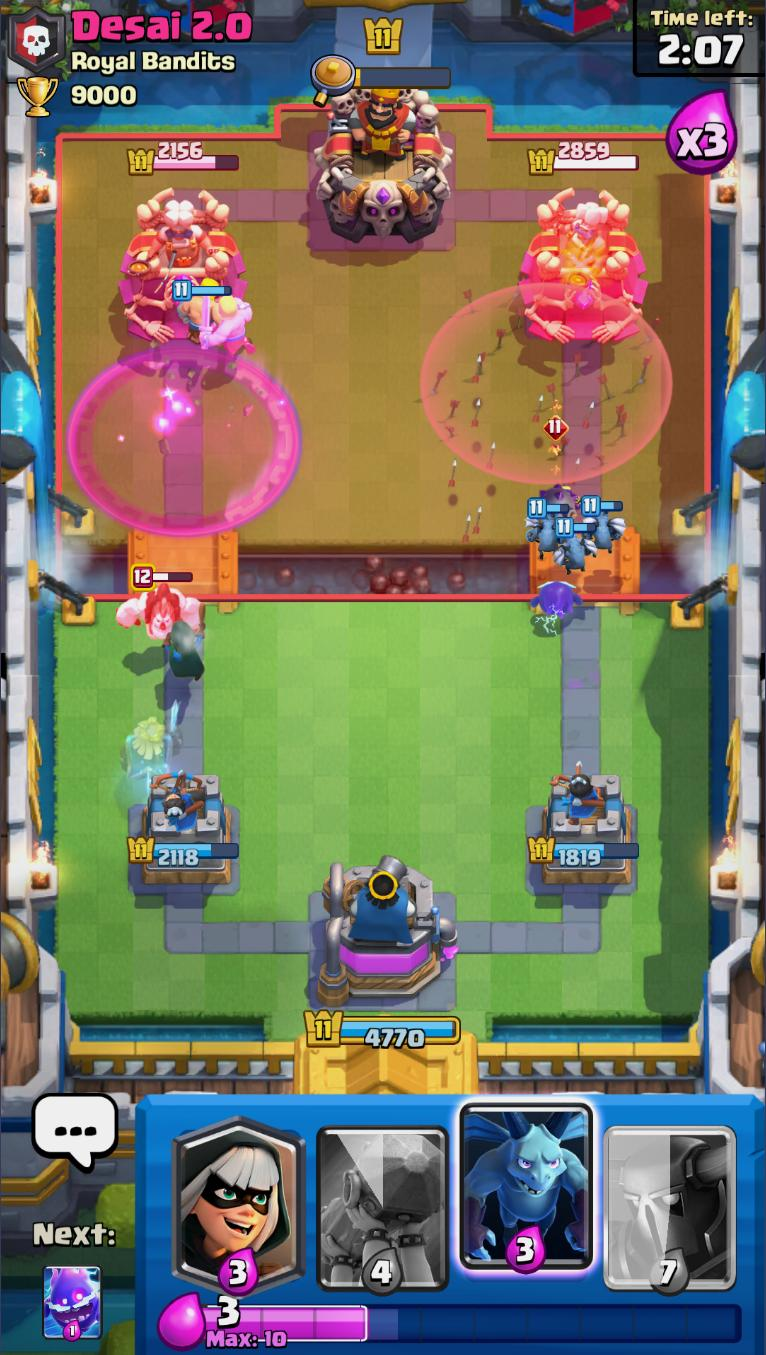ArrowDeck: (420, 283, 676, 483)
BanditDeck: (167, 1097, 313, 1290)
BattleRamDeck: (310, 1100, 456, 1296)
Chef: (147, 199, 220, 270), (549, 204, 620, 269)
ElectroSpiritNext: (41, 1261, 104, 1343)
Elixir: (202, 1296, 742, 1349)
EnemyTower: (119, 189, 249, 344), (520, 189, 649, 343)
EvoBomber: (536, 416, 579, 516)
IceGolem: (117, 564, 205, 649)
KingTower: (314, 84, 456, 244)
MinionsDeck: (453, 1100, 599, 1300)
MyBandit: (161, 617, 213, 686)
MyBarbarian: (200, 294, 266, 359), (171, 280, 230, 344)
MyElectroSpirit: (527, 580, 586, 626)
MyKingHP: (301, 1004, 463, 1053)
MyKingTower: (311, 853, 461, 1009)
MyMinion: (580, 496, 630, 553), (527, 496, 570, 559), (557, 516, 600, 577)
MyPrincessTower: (127, 774, 240, 889), (529, 774, 641, 890)
MyPrincessTowerHP: (126, 833, 241, 869), (529, 833, 641, 867)
MyRoyaleGhost: (120, 701, 183, 780)
PekkaDeck: (599, 1100, 744, 1297)
Rage: (67, 346, 303, 534)
TowerPrincessHP: (529, 141, 641, 177), (129, 141, 241, 174)
